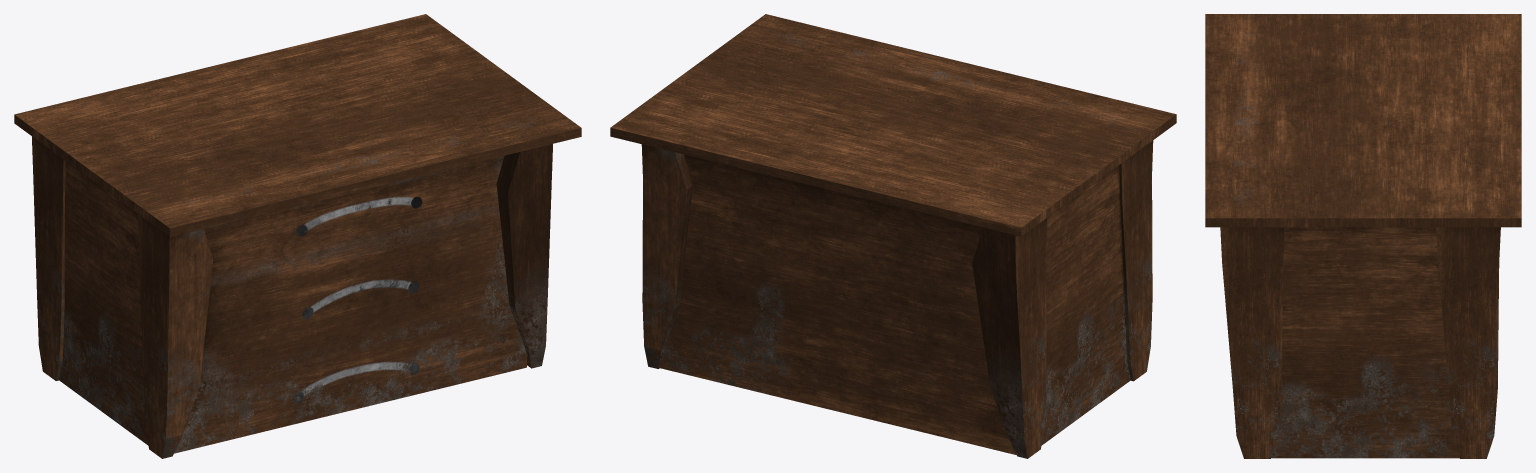
The model's file is storage cabineTX.fbx.
3 renders of one model, left to right at view 1: azimuth 30°, elevation 25°; view 2: azimuth 150°, elevation 25°; view 3: azimuth 270°, elevation 25°, orthographic.
Visible parts, largest first — view 1: storage cabinet; view 2: storage cabinet; view 3: storage cabinet.
Boxes of the visible parts, x1=… form: storage cabinet: x1=14, y1=14, x2=581, y2=458; storage cabinet: x1=610, y1=14, x2=1176, y2=458; storage cabinet: x1=1205, y1=14, x2=1521, y2=458.
Bounding box in the file's own units: 1922 × 1102 × 1258.
Materials: 1 (1 with a texture image).
